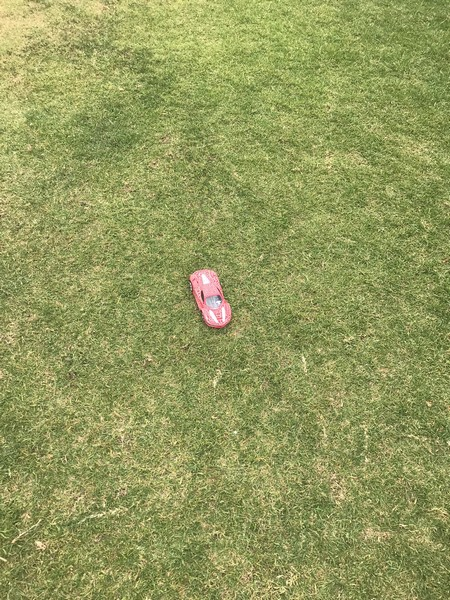RC: (187, 268, 233, 329)
